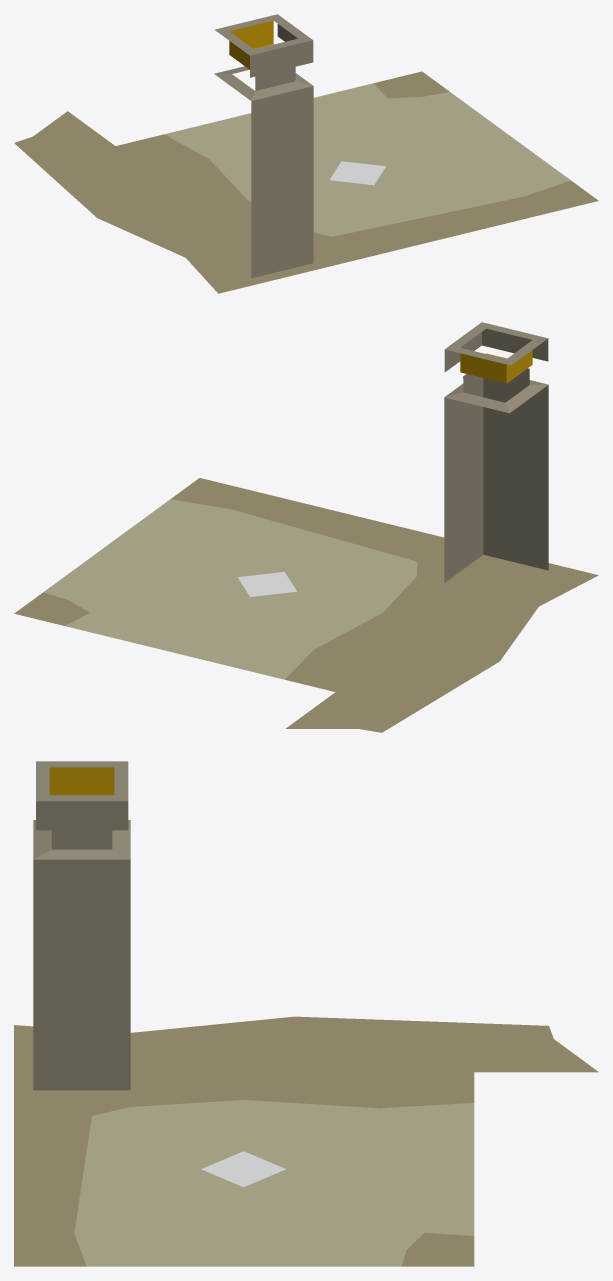
The model's file is Run Left to Right.fbx.
The picture shows the model from 3 angles, top to bottom: view 1: azimuth 30°, elevation 25°; view 2: azimuth 150°, elevation 25°; view 3: azimuth 270°, elevation 25°; orthographic projection. The views are drawn at different scales.
Parts seen in each view (by area): view 1: polySurface7480; view 2: polySurface7480; view 3: polySurface7480.
Part boxes in pixels (<box>): polySurface7480: <box>14,14,598,293</box>; polySurface7480: <box>14,322,598,732</box>; polySurface7480: <box>14,761,598,1266</box>.
Bounding box in the file's own units: 129 × 69.3 × 127.
